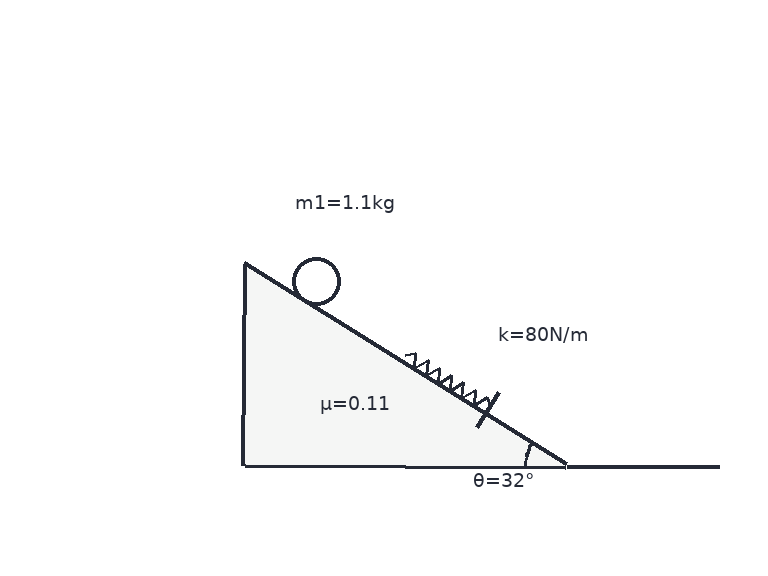ball: (290, 255, 342, 307)
ramp: (242, 262, 567, 467)
spring: (404, 351, 491, 409)
